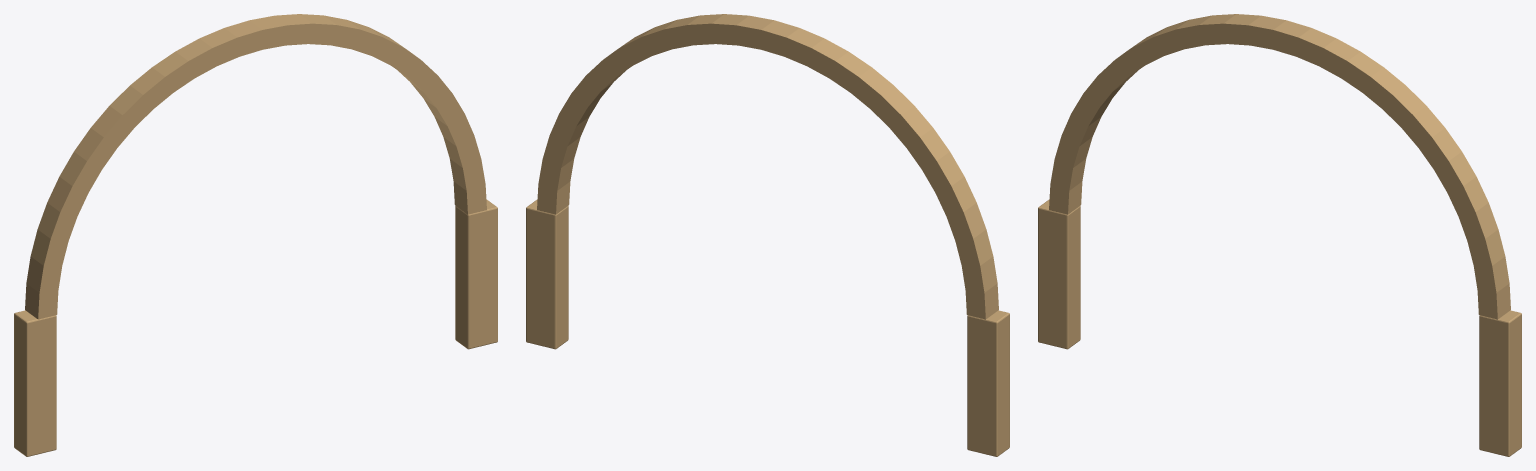
Rendered from Gates_Wall.fbx.
3 renders of one model, left to right at view 1: azimuth 30°, elevation 25°; view 2: azimuth 150°, elevation 25°; view 3: azimuth 330°, elevation 25°, orthographic.
Visible parts, largest first — view 1: EntryPier-1.001; view 2: EntryPier-1.001; view 3: EntryPier-1.001.
Boxes of the visible parts, x1,y1,x2,y2 form: EntryPier-1.001: [14, 14, 497, 456]; EntryPier-1.001: [526, 14, 1009, 456]; EntryPier-1.001: [1038, 14, 1521, 456].
Bounding box in the file's own units: 12400 × 9300 × 600.
